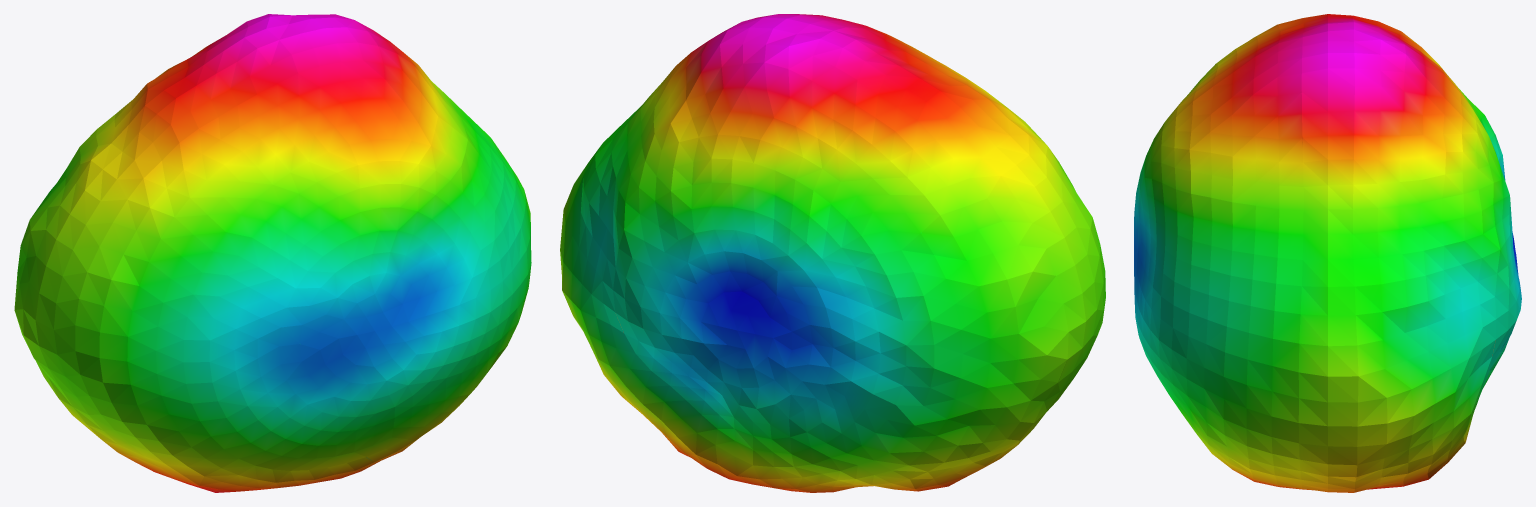
File: color_model1_test.fbx
The picture shows the model from 3 angles, left to right: view 1: azimuth 30°, elevation 25°; view 2: azimuth 150°, elevation 25°; view 3: azimuth 270°, elevation 25°; orthographic projection. The views are drawn at different scales.
Visible parts, largest first — view 1: psyche.v.final.mod; view 2: psyche.v.final.mod; view 3: psyche.v.final.mod.
Part boxes in pixels (x1,y1,x2,y2): psyche.v.final.mod: (14, 14, 531, 492); psyche.v.final.mod: (560, 14, 1105, 492); psyche.v.final.mod: (1134, 14, 1521, 492).
Bounding box in the file's own units: 27865 × 23224 × 18876.
